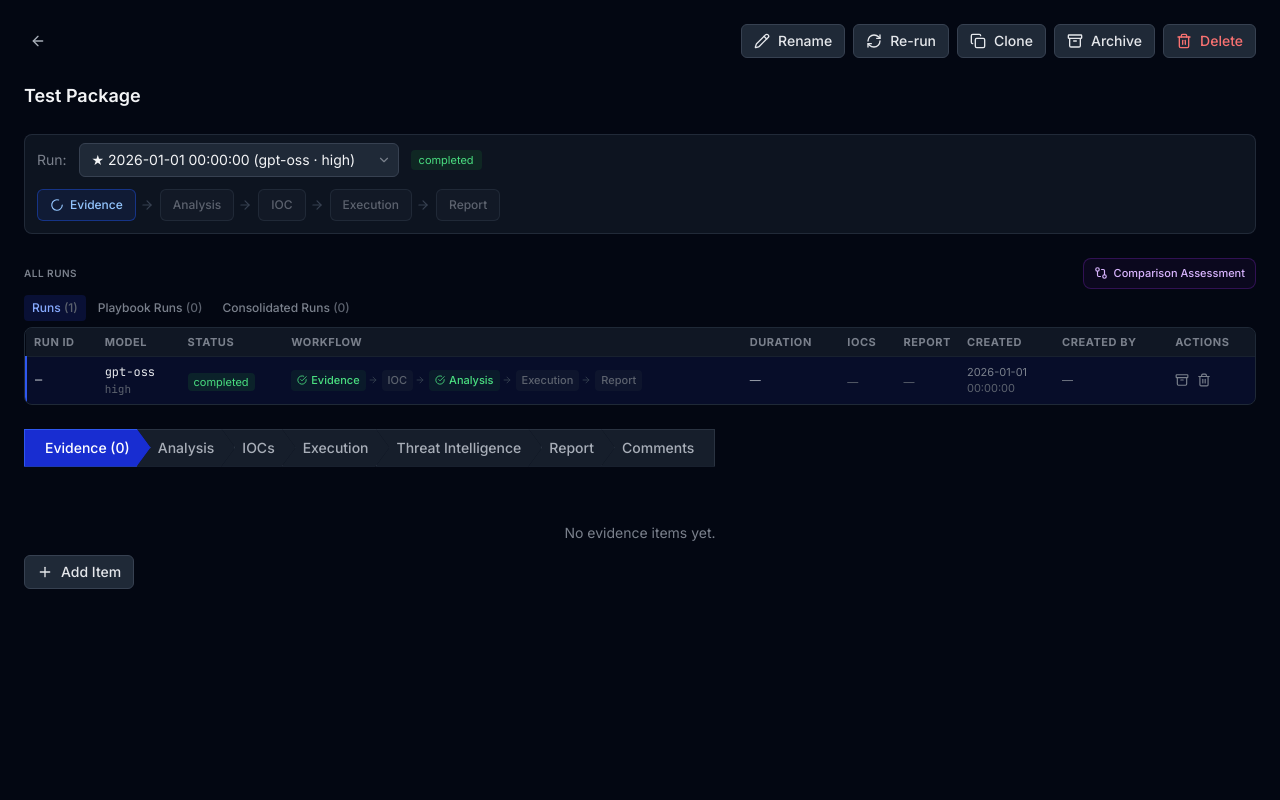
Test: ComparisonAssessmentTab and Assess & Compare (issue-local-020) › issue-local-035 follow-up: clicking Assess & Compare starts a background job, closes the dialog immediately, and shows progress
This screenshot has width=1280, height=800.
Click the button "Comparison Assessment" at (1169, 273), box [1083,258,1256,288]
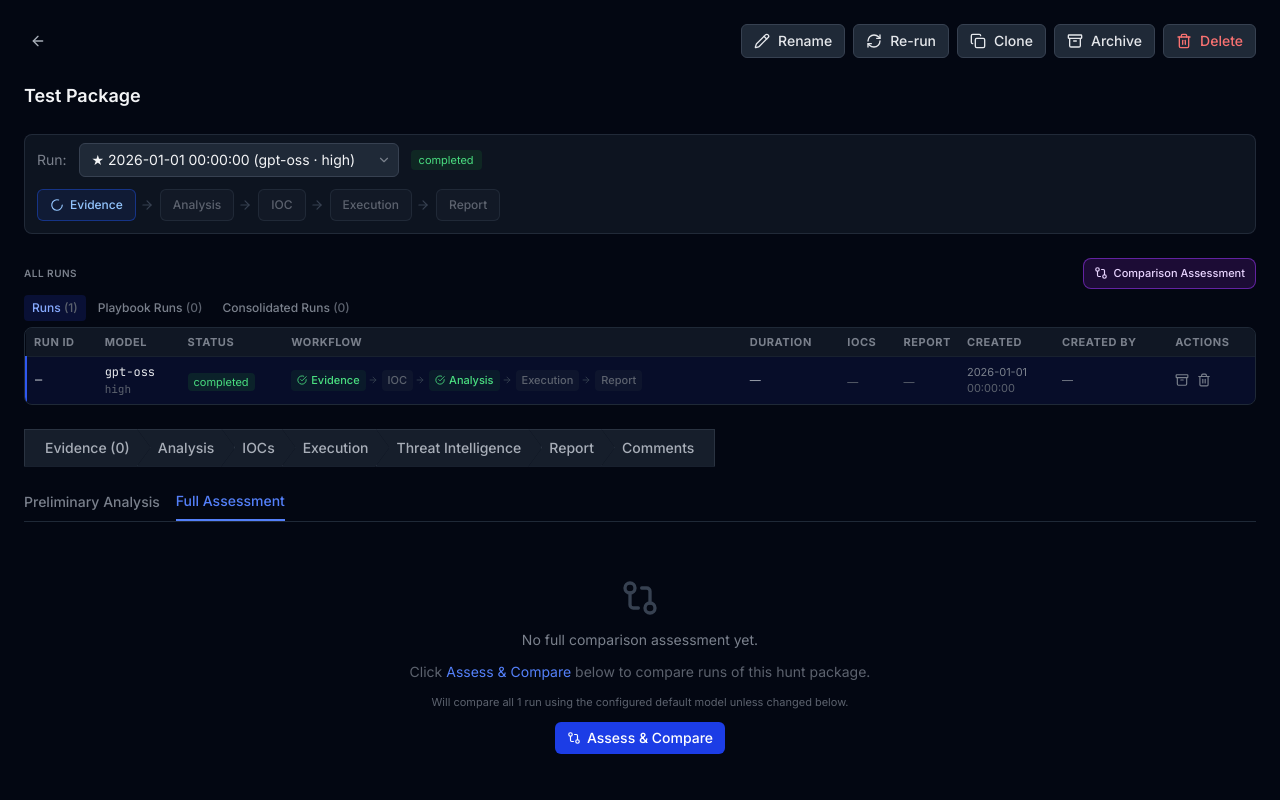
Click the button "Assess & Compare" at (640, 738), box [555,722,725,754]
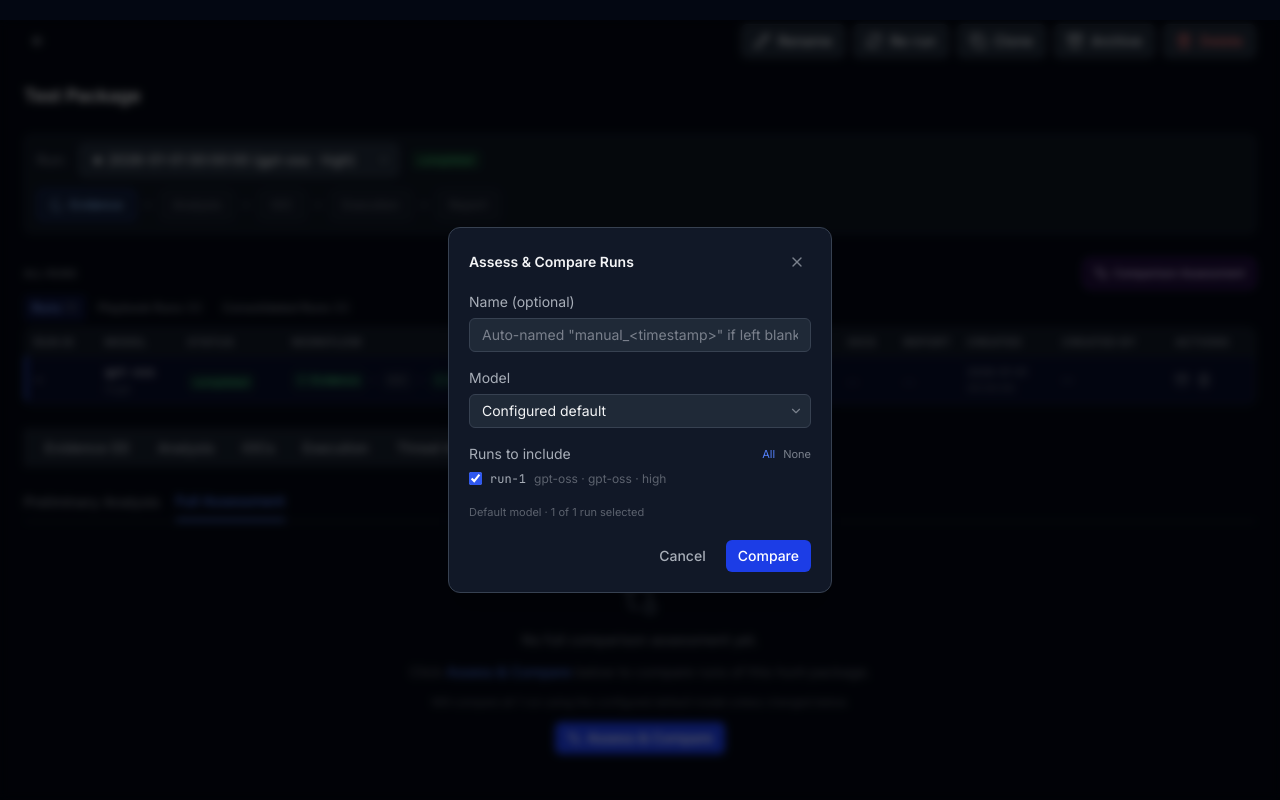
Click the button "Compare" at (768, 556), box [726,540,811,572]
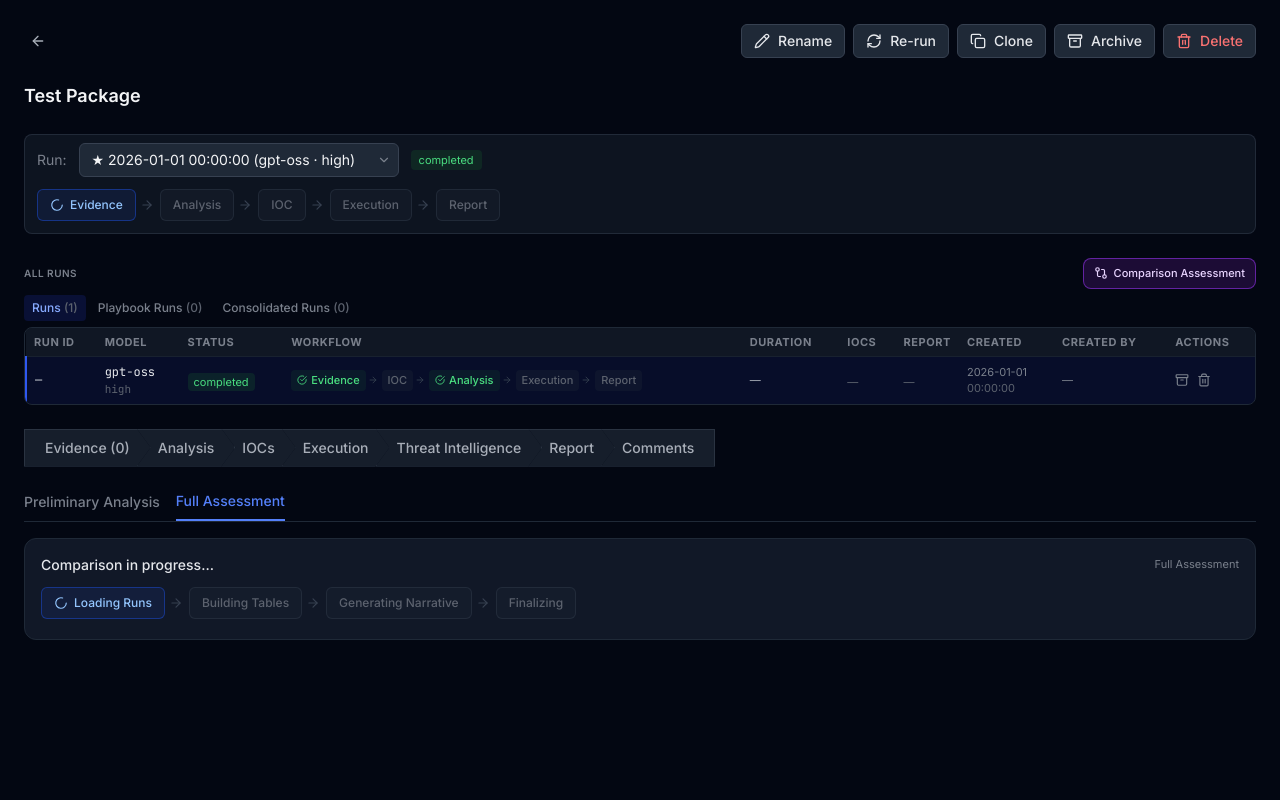
Expected: the text "Compare" is not shown
Expected: the text "Comparison in progress…" is shown, [41,554,214,574]
Expected: the text "Loading Runs" is shown, [41,586,165,618]
